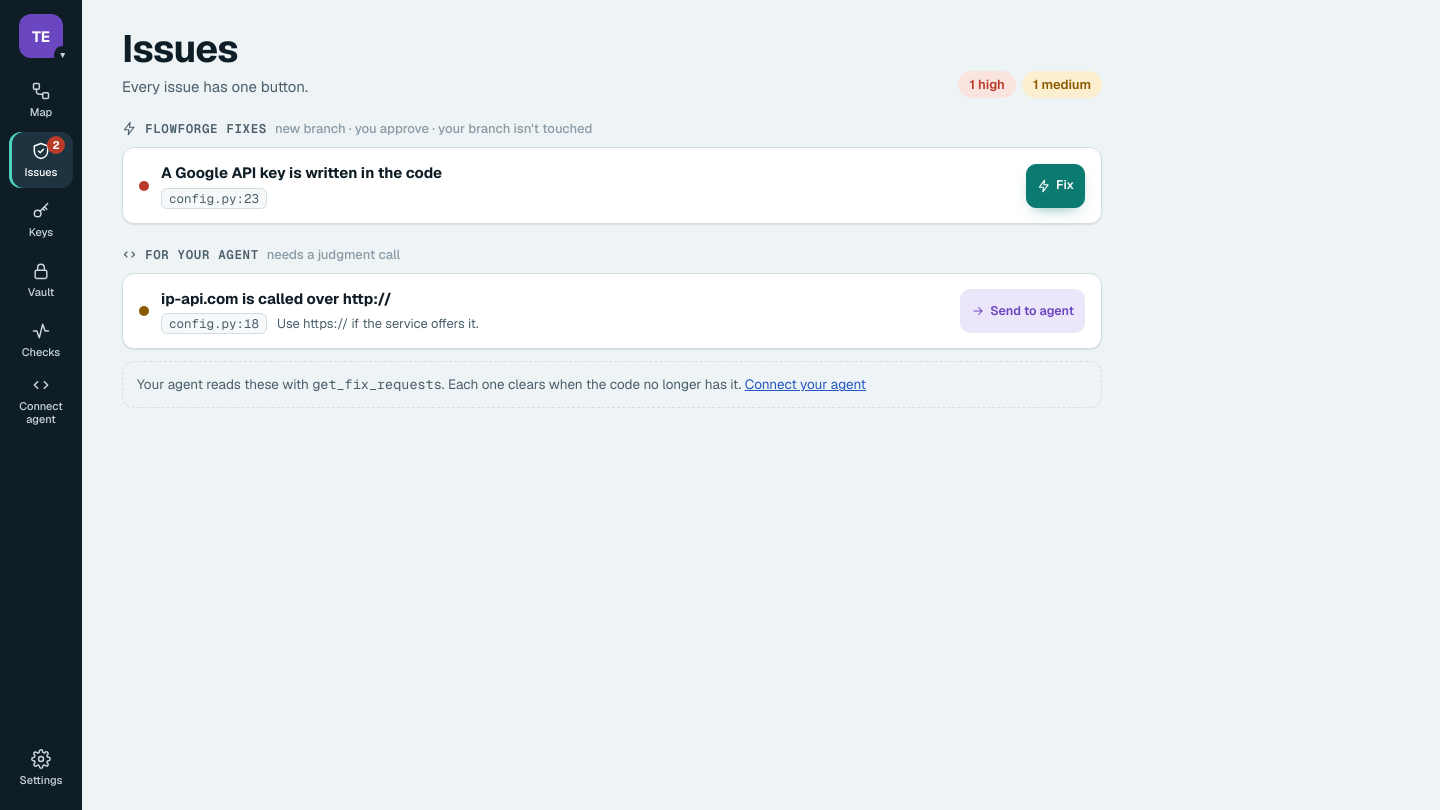
a fix that can't be made says why and offers your agent instead
Click the button "Fix" at (1056, 186), box top-left (1026, 164), bottom-right (1085, 208)
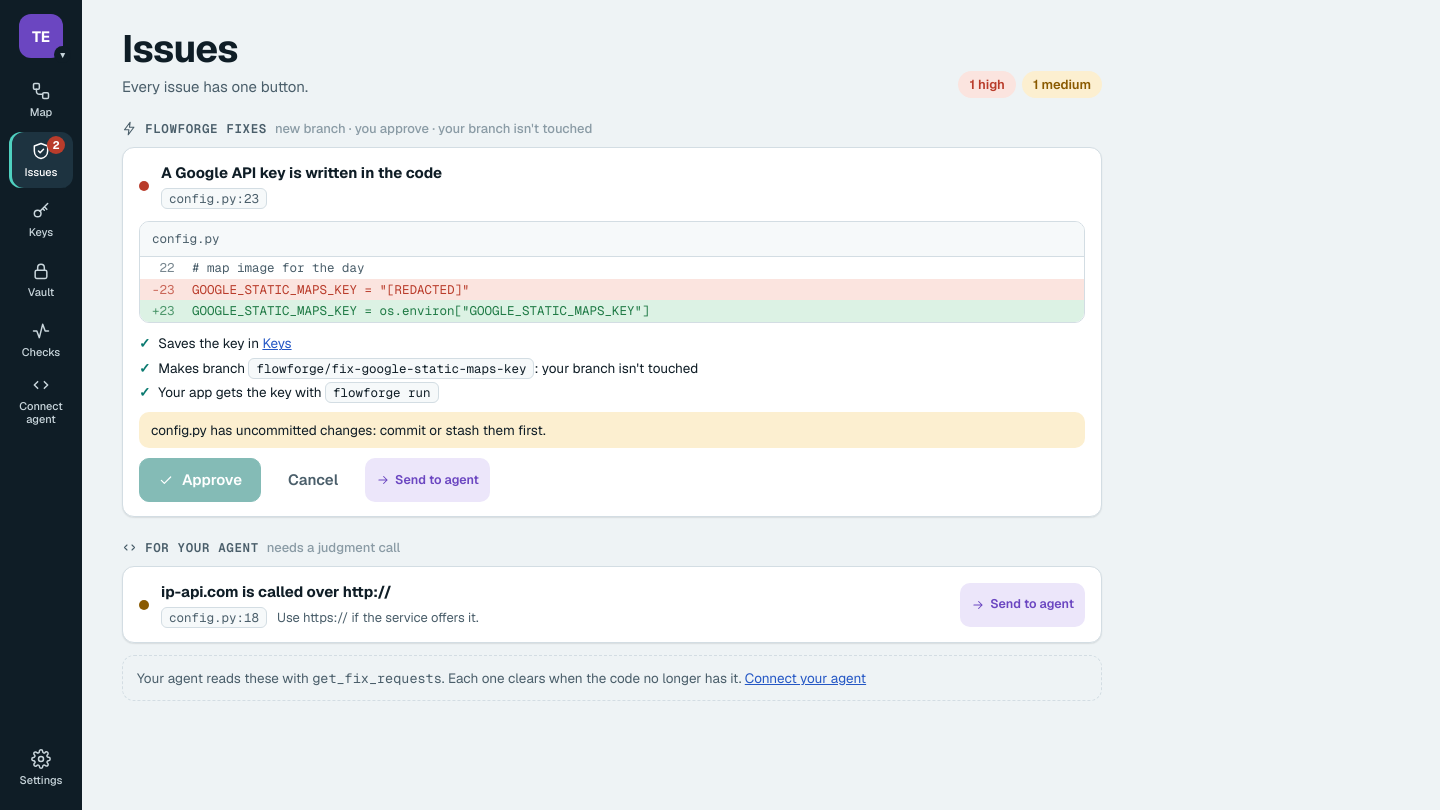
Now the text "config.py has uncommitted changes: commit or stash them first." is shown, box top-left (139, 412), bottom-right (1085, 448)
Now the button "Approve" is disabled, box top-left (139, 458), bottom-right (261, 502)
Now the button "Send to agent" below "Your app gets the key with" is shown, box top-left (365, 458), bottom-right (490, 502)
